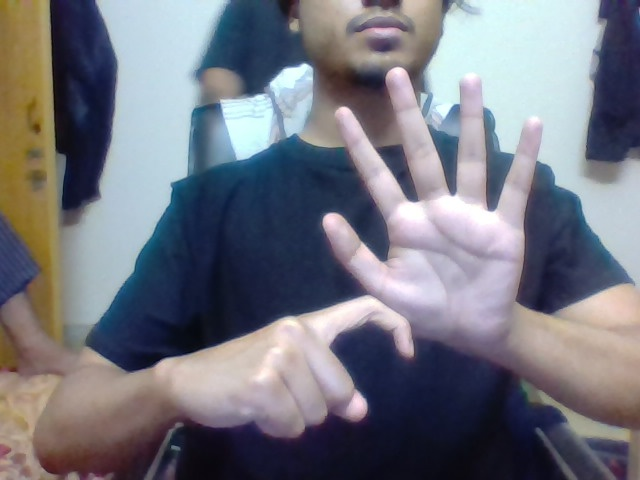R: (294, 293, 414, 423)
